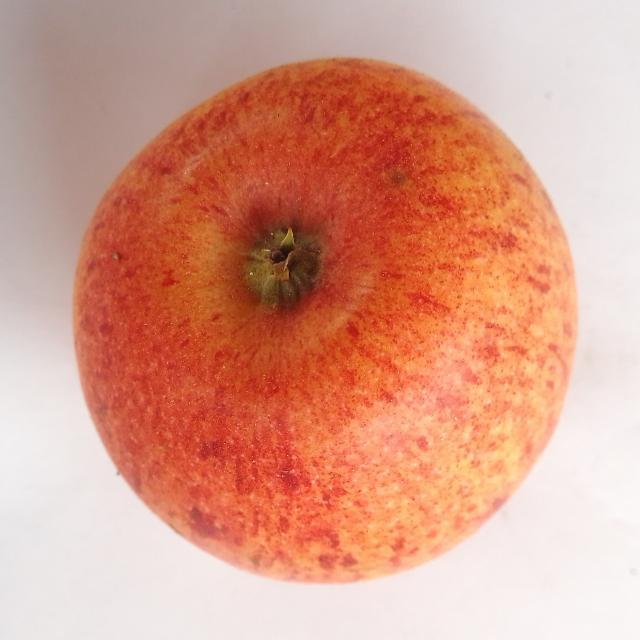Fresh Apple: (82, 62, 575, 575)
